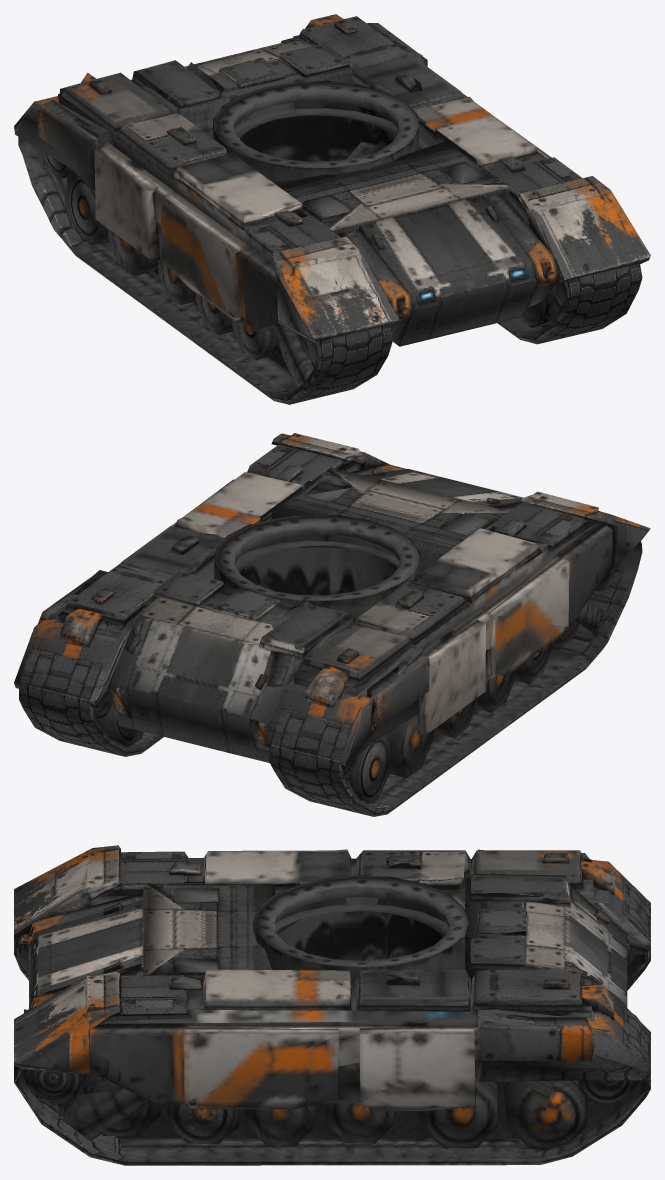
Rendered from tank_hull.glb.
The picture shows the model from 3 angles, top to bottom: view 1: azimuth 30°, elevation 25°; view 2: azimuth 150°, elevation 25°; view 3: azimuth 270°, elevation 25°; orthographic projection. The views are drawn at different scales.
Visible parts, largest first — view 1: mesh_node; view 2: mesh_node; view 3: mesh_node.
Boxes of the visible parts, x1,y1,x2,y2 form: mesh_node: (14, 14, 650, 404); mesh_node: (14, 433, 650, 816); mesh_node: (14, 845, 650, 1165).
Bounding box in the file's own units: 0.6445 × 0.2998 × 1.
1 material, 1 textured.
